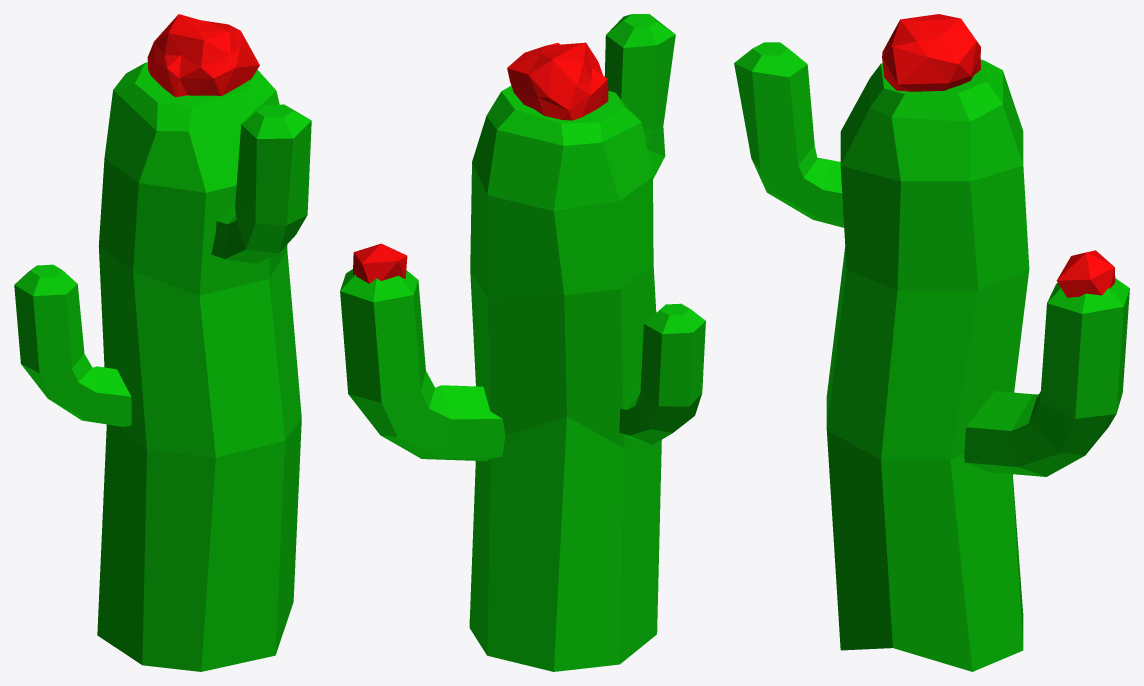
Rendered from cactus2.glb.
The picture shows the model from 3 angles, left to right: view 1: azimuth 30°, elevation 25°; view 2: azimuth 150°, elevation 25°; view 3: azimuth 270°, elevation 25°; orthographic projection. The views are drawn at different scales.
Parts seen in each view (by area): view 1: Object_7, Object_8; view 2: Object_7, Object_8; view 3: Object_7, Object_8.
Part boxes in pixels (<box>): Object_7: <box>14,62,311,671</box>; Object_8: <box>147,14,259,97</box>; Object_7: <box>340,14,705,671</box>; Object_8: <box>353,42,608,283</box>; Object_7: <box>734,42,1129,671</box>; Object_8: <box>882,14,1115,297</box>.
Size of the model in its own units: 4.34 by 8.1 by 4.74.
